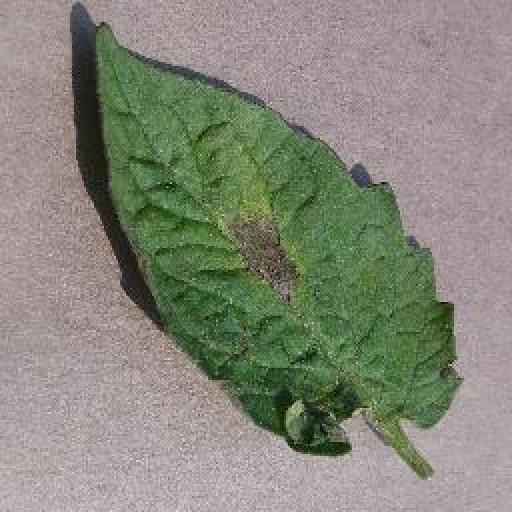disease_tomato: (92, 17, 466, 459)
